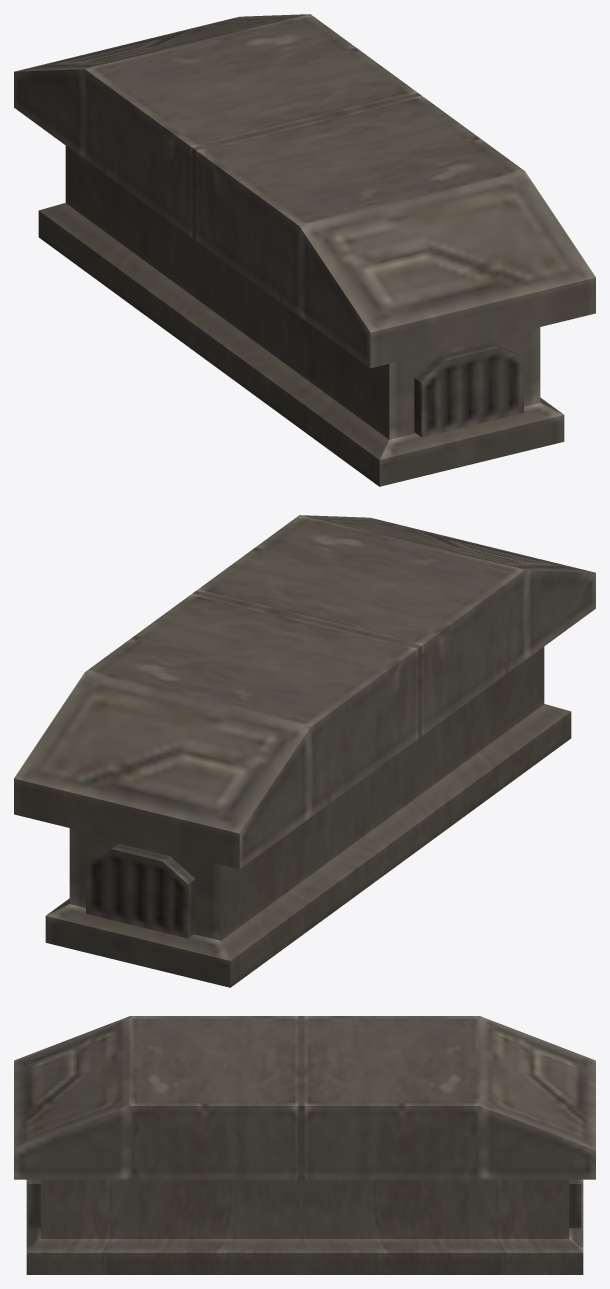
File: machine_3_3.FBX
3 renders of one model, top to bottom at view 1: azimuth 30°, elevation 25°; view 2: azimuth 150°, elevation 25°; view 3: azimuth 270°, elevation 25°, orthographic. The views are drawn at different scales.
Parts seen in each view (by area): view 1: Object031; view 2: Object031; view 3: Object031.
Boxes of the visible parts, x1=… form: Object031: x1=14, y1=14, x2=595, y2=486; Object031: x1=14, y1=515, x2=595, y2=987; Object031: x1=14, y1=1016, x2=595, y2=1274.
Size of the model in its own units: 17 by 15.73 by 46.5.
